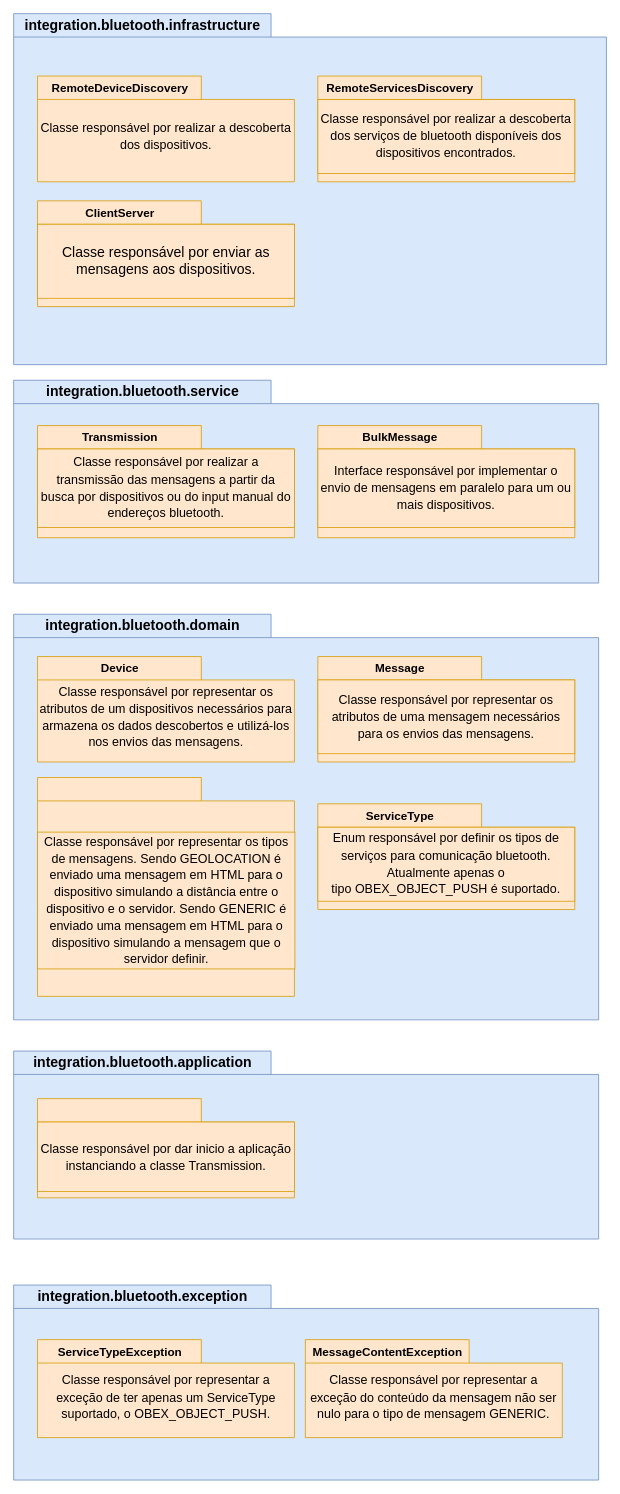
The diagram is 620 pixels wide and 1494 high, and some of its shapes have lost their labels. The centre of each missing label's shape, as x and y in pixels:
"Main" goes at (165,1148).
"MessageType" goes at (165,886).
